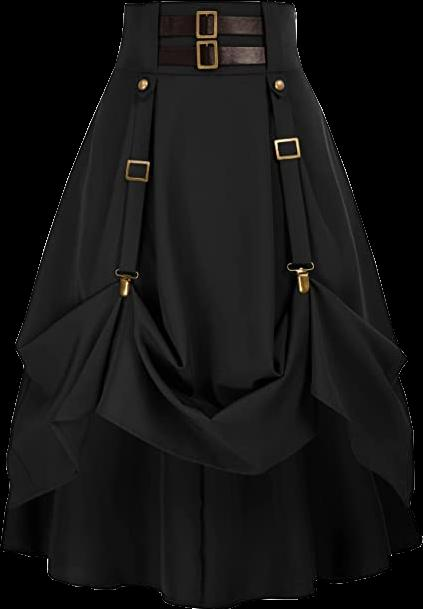Hemline: (1, 391, 415, 514)
Waistline: (112, 65, 303, 83), (122, 0, 296, 13)
